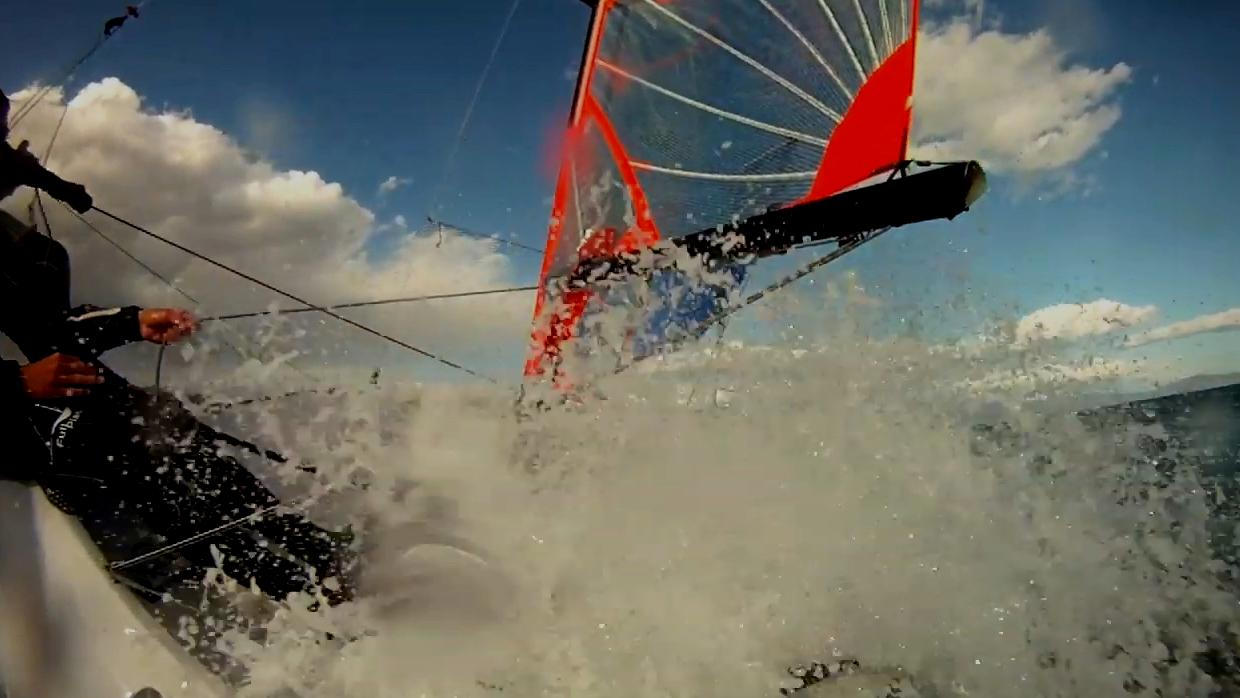boat: (0, 0, 992, 698)
person: (0, 211, 339, 604), (0, 90, 93, 214)
sea: (401, 386, 1240, 698)
sky: (596, 0, 1240, 416), (0, 0, 590, 388)
